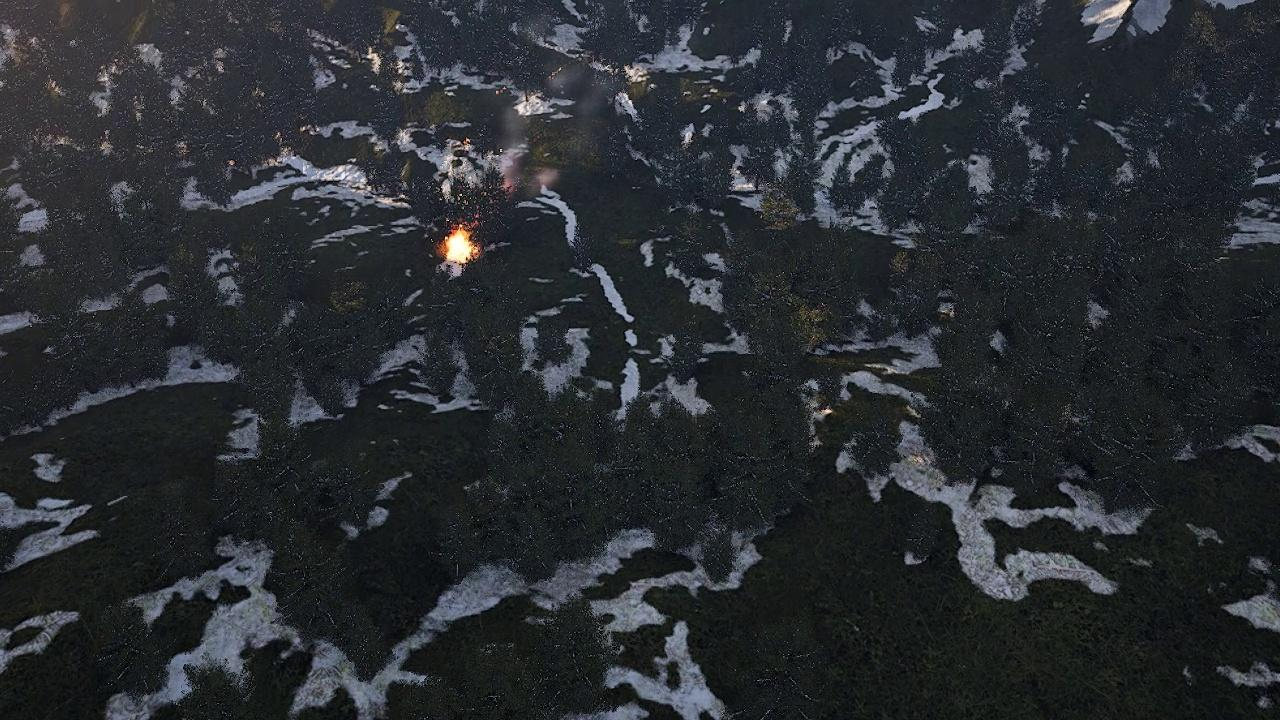fire: (444, 231, 473, 263)
smoke: (494, 59, 603, 194)
